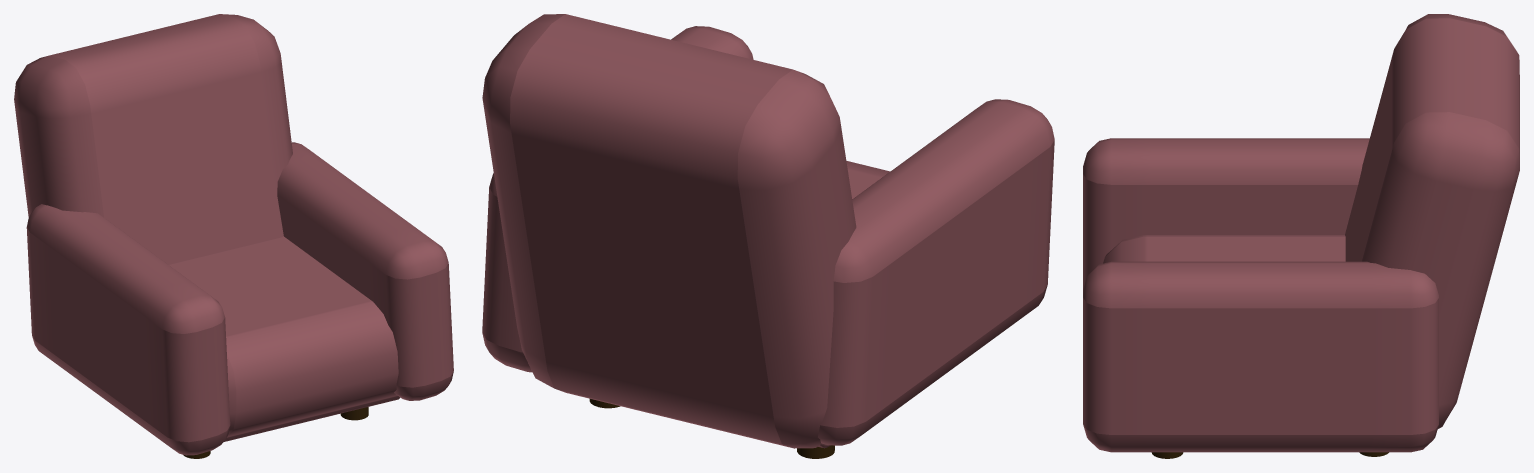
The model's file is couchSessel.fbx.
3 views of the same model, side by side, from view 1: azimuth 30°, elevation 25°; view 2: azimuth 150°, elevation 25°; view 3: azimuth 270°, elevation 25° (orthographic). The views are drawn at different scales.
Visible parts, largest first — view 1: pasted__pCube11, pasted__pCube9, pasted__pCube8, pasted__pCube10, pasted__pCube12; view 2: pasted__pCube11, pasted__pCube9, pasted__pCube10, pasted__pCube8; view 3: pasted__pCube10, pasted__pCube11, pasted__pCube9, pasted__pCube8.
Part boxes in pixels (x1=…): pasted__pCube11: x1=14, y1=14, x2=292, y2=264; pasted__pCube9: x1=26, y1=204, x2=230, y2=455; pasted__pCube8: x1=169, y1=236, x2=398, y2=436; pasted__pCube10: x1=277, y1=142, x2=453, y2=400; pasted__pCube12: x1=224, y1=395, x2=400, y2=441; pasted__pCube11: x1=482, y1=14, x2=856, y2=448; pasted__pCube9: x1=818, y1=99, x2=1054, y2=445; pasted__pCube10: x1=482, y1=26, x2=753, y2=372; pasted__pCube8: x1=846, y1=161, x2=890, y2=198; pasted__pCube10: x1=1083, y1=261, x2=1438, y2=452; pasted__pCube11: x1=1345, y1=14, x2=1519, y2=428; pasted__pCube9: x1=1083, y1=138, x2=1369, y2=289; pasted__pCube8: x1=1103, y1=235, x2=1345, y2=263.
Bounding box in the file's own units: 1.16 × 1.17 × 1.35.
